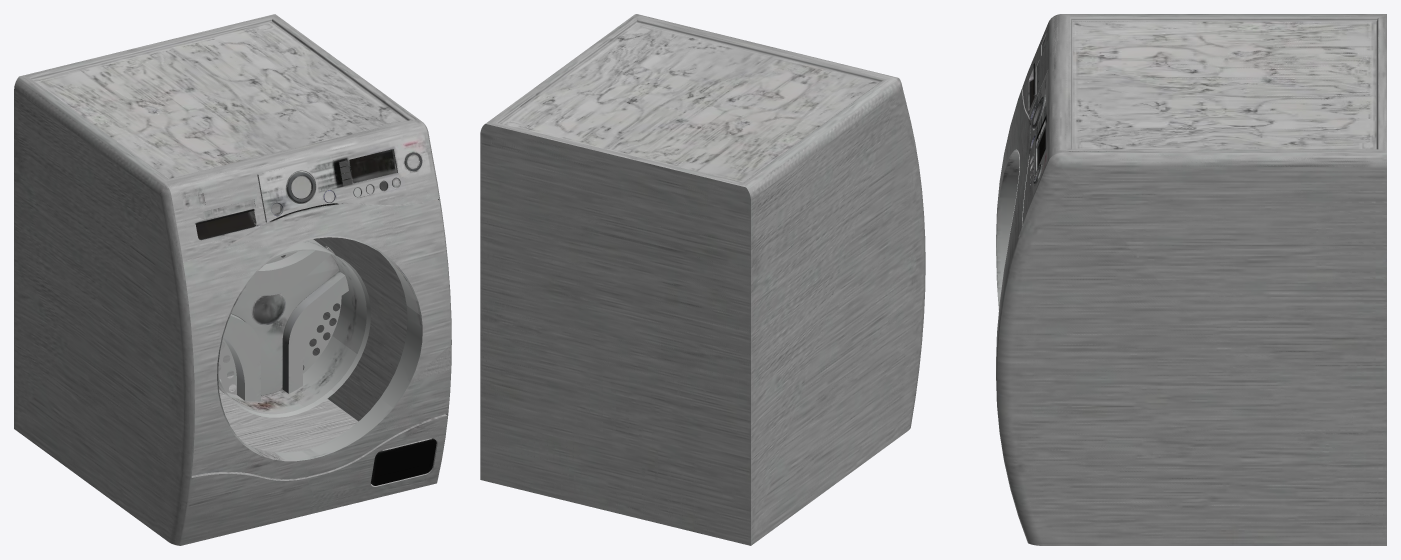
File: link_13__base_body-14.glb
The picture shows the model from 3 angles, left to right: view 1: azimuth 30°, elevation 25°; view 2: azimuth 150°, elevation 25°; view 3: azimuth 270°, elevation 25°; orthographic projection. The views are drawn at different scales.
Visible parts, largest first — view 1: geometry_0; view 2: geometry_0; view 3: geometry_0.
Part boxes in pixels (x1,y1,x2,y2): geometry_0: (14, 14, 451, 545); geometry_0: (480, 14, 925, 545); geometry_0: (996, 14, 1386, 545).
Size of the model in its own units: 1.02 by 1.28 by 1.29.
Materials: 1 (1 with a texture image).
